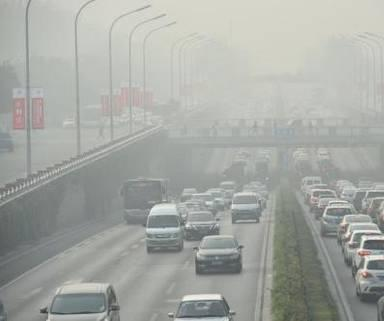bus: (120, 175, 170, 222)
car: (40, 282, 122, 321), (143, 202, 186, 254), (192, 233, 245, 273), (167, 292, 236, 321), (337, 220, 380, 260), (349, 232, 384, 280), (353, 251, 384, 303), (343, 227, 381, 268), (319, 204, 355, 238), (183, 210, 221, 240), (335, 213, 372, 242), (228, 191, 261, 223), (188, 191, 217, 215), (299, 173, 323, 200), (308, 187, 333, 212), (361, 187, 384, 213), (204, 189, 226, 211), (350, 188, 372, 210), (338, 186, 360, 203), (1, 128, 14, 152)
